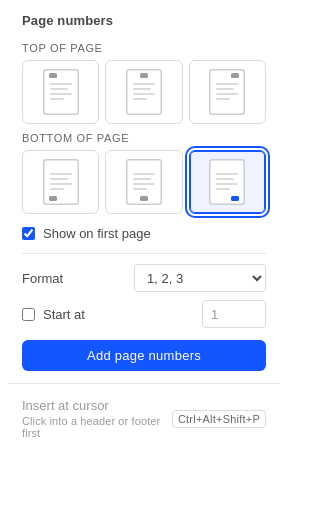
it: PageNumberMenu › stays open with a retry message when adding fails
The image size is (320, 514).
Click the button "Add page numbers".
click(144, 356)  # box [22,340,266,371]
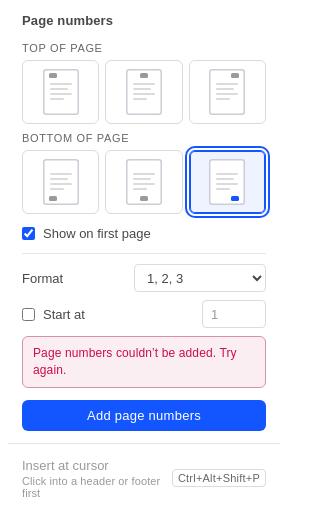
Expected: the message "Page numbers couldn’t be added. Try again." is shown, [22,336,266,388]
